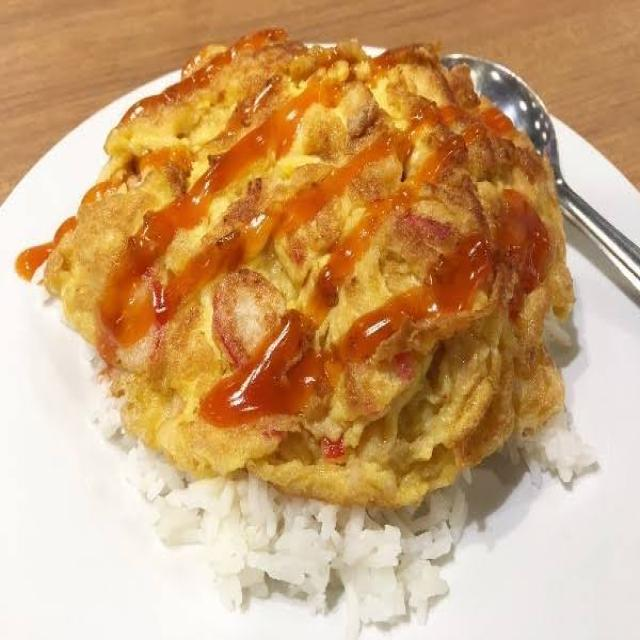carb: (122, 420, 454, 618)
meat: (97, 59, 539, 466)
omelette rice: (16, 17, 537, 635)
